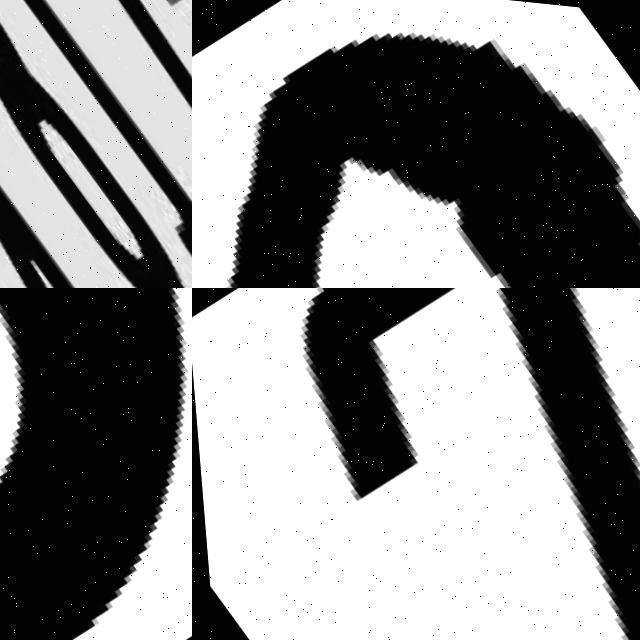4: (0, 0, 192, 267), (9, 0, 192, 195)
7: (56, 0, 192, 169)
8: (0, 0, 192, 288), (0, 0, 66, 288)
C: (0, 288, 192, 640), (499, 288, 640, 640)
K: (0, 0, 113, 288)
T: (0, 0, 192, 288)
